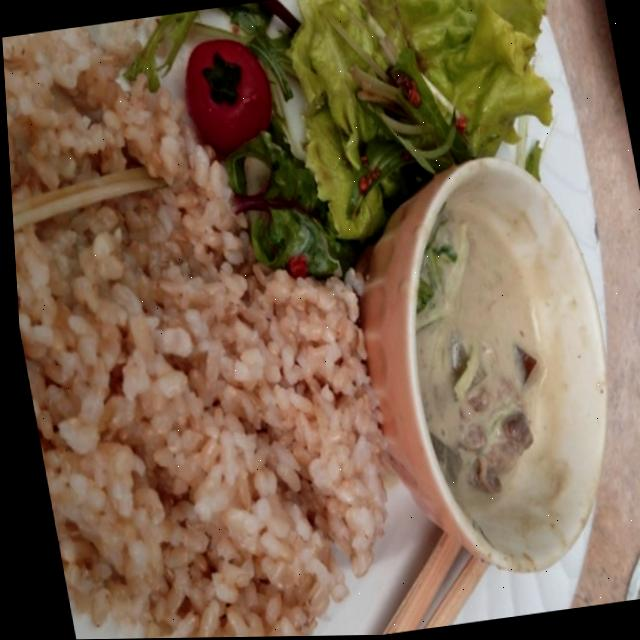蔬菜料理: (18, 54, 585, 623)
